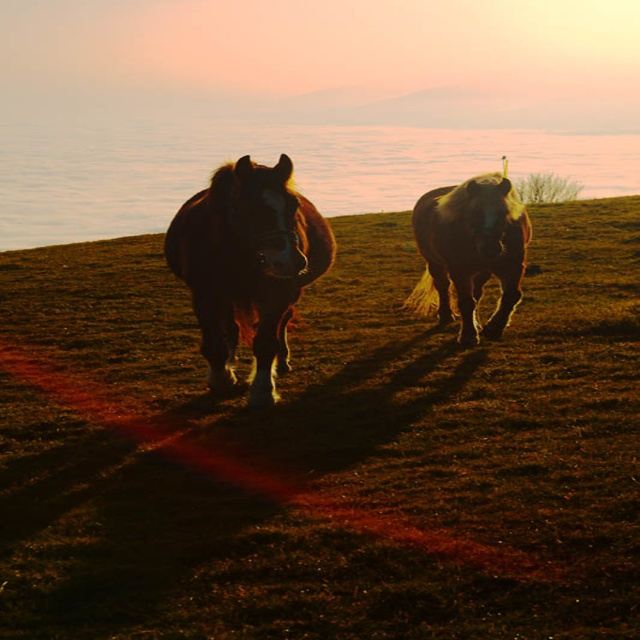Horse: (156, 151, 343, 410), (400, 174, 537, 346)
